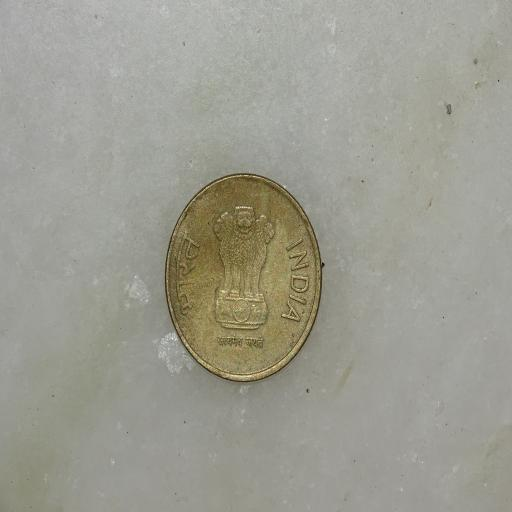rupee5: (161, 172, 328, 385)
